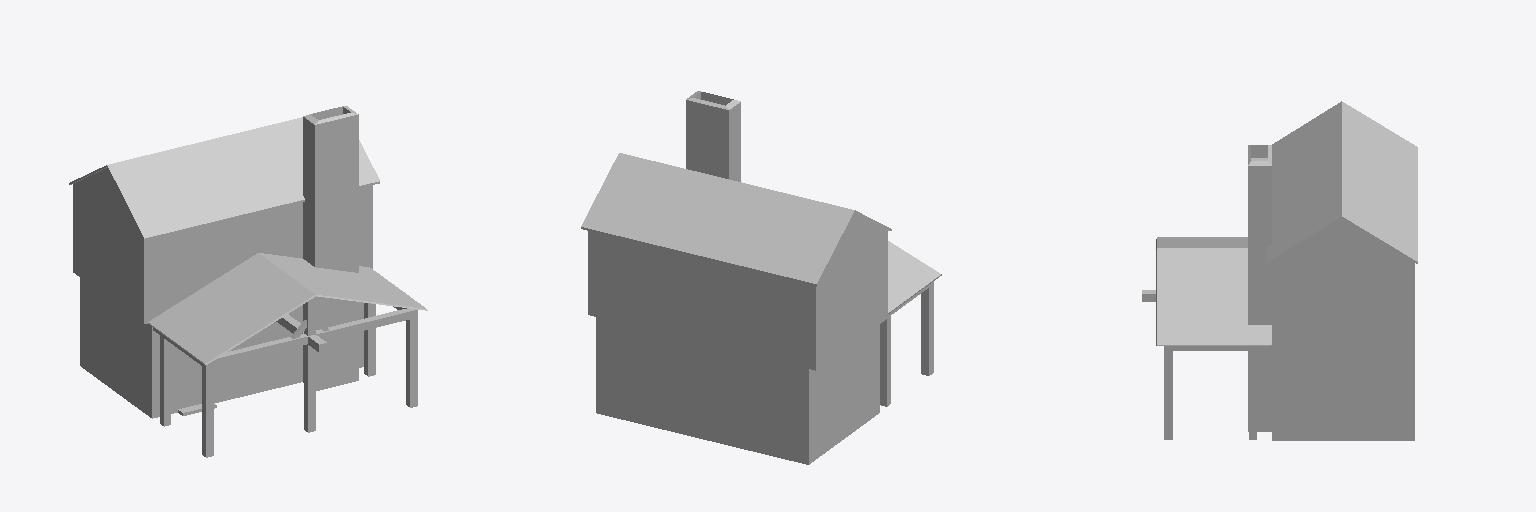
The model's file is maison2.obj.
3 views of the same model, side by side, from view 1: azimuth 30°, elevation 25°; view 2: azimuth 150°, elevation 25°; view 3: azimuth 270°, elevation 25° (orthographic).
Parts seen in each view (by area): view 1: ext_house01; view 2: ext_house01; view 3: ext_house01.
Part boxes in pixels (left/top/right/bottom): ext_house01: left=69, top=106, right=427, bottom=457; ext_house01: left=581, top=91, right=941, bottom=464; ext_house01: left=1142, top=101, right=1417, bottom=440.
Size of the model in its own units: 17.96 by 19.53 by 18.24.